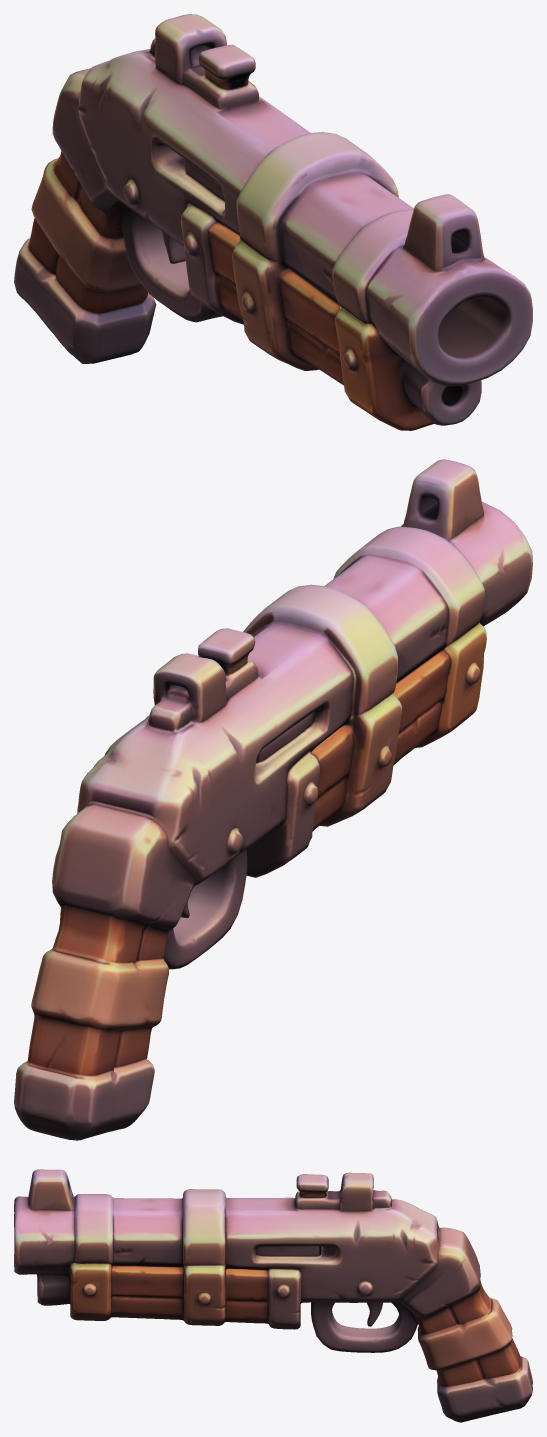
The model's file is Shotgun_Tripo.glb.
The picture shows the model from 3 angles, top to bottom: view 1: azimuth 30°, elevation 25°; view 2: azimuth 150°, elevation 25°; view 3: azimuth 270°, elevation 25°; orthographic projection. The views are drawn at different scales.
Visible parts, largest first — view 1: tripo_node_edae9683; view 2: tripo_node_edae9683; view 3: tripo_node_edae9683.
Boxes of the visible parts, x1,y1,x2,y2 form: tripo_node_edae9683: (14,14,532,430); tripo_node_edae9683: (14,459,532,1140); tripo_node_edae9683: (14,1169,532,1422).
Size of the model in its own units: 19.3 by 50.83 by 97.96.
1 material, 1 textured.
